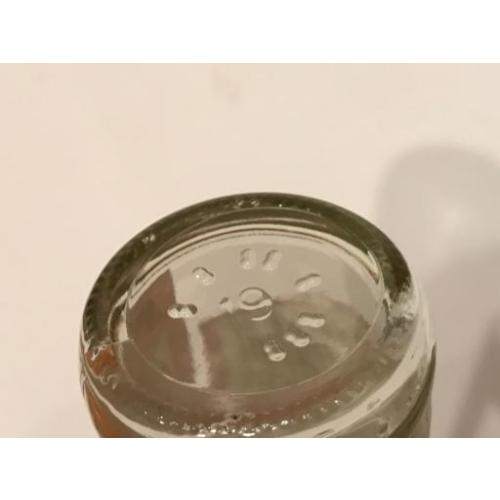glass: (86, 194, 434, 438)
